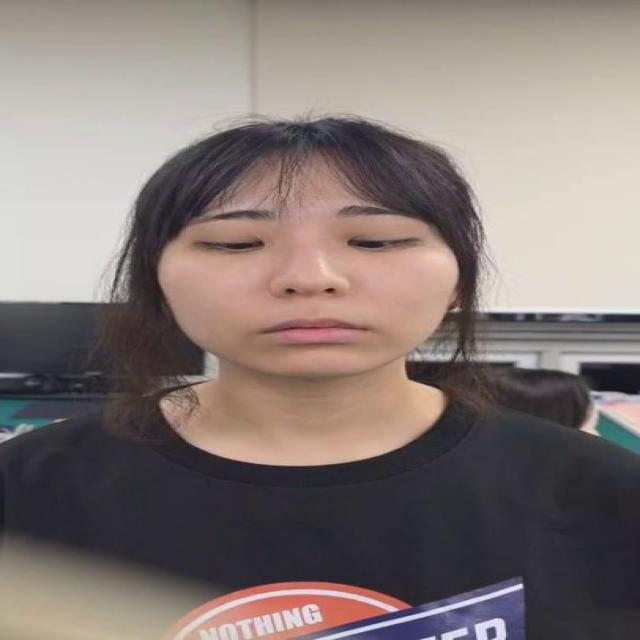eyes: (174, 224, 434, 260)
face: (151, 118, 461, 384)
iris_down: (352, 235, 382, 251), (221, 239, 253, 250)
